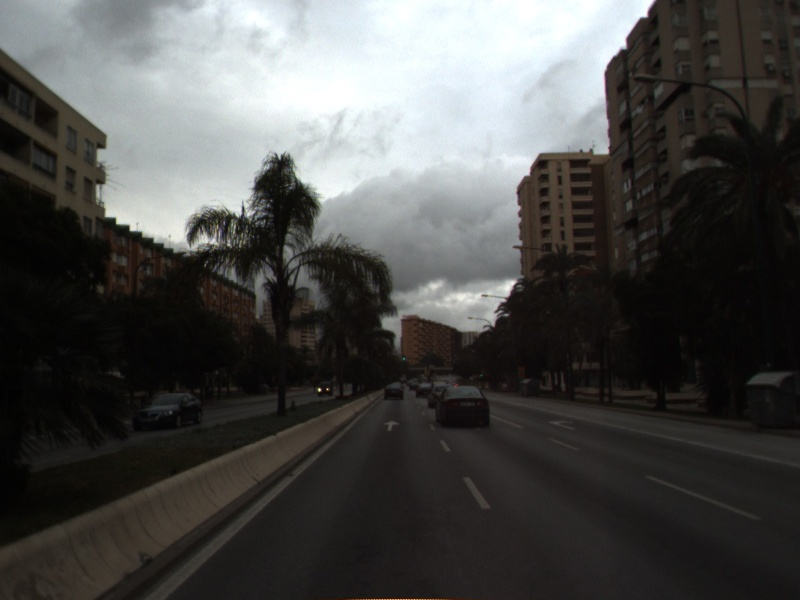RIGHT: (545, 416, 579, 433)
STRAIGHT: (381, 418, 402, 433)
